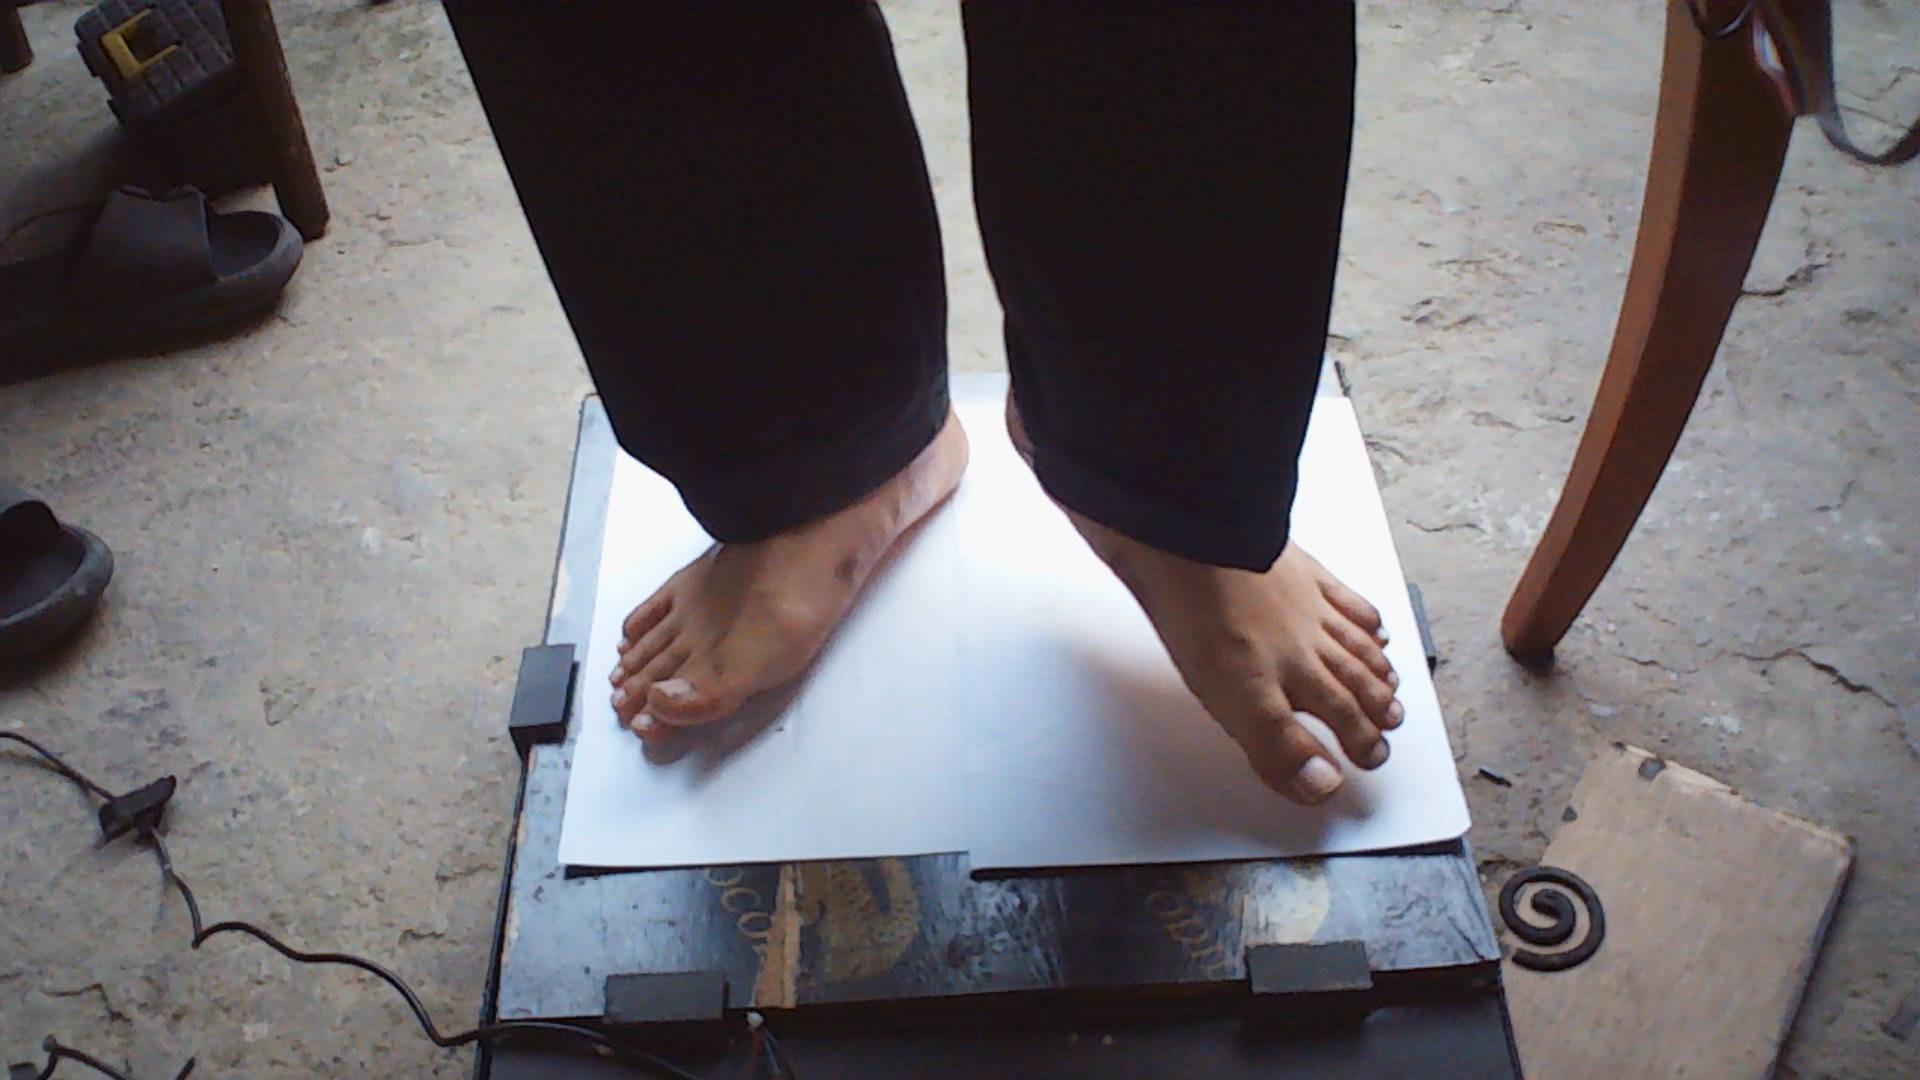Bare_feet: (545, 475, 1019, 748), (1000, 566, 1398, 840)
